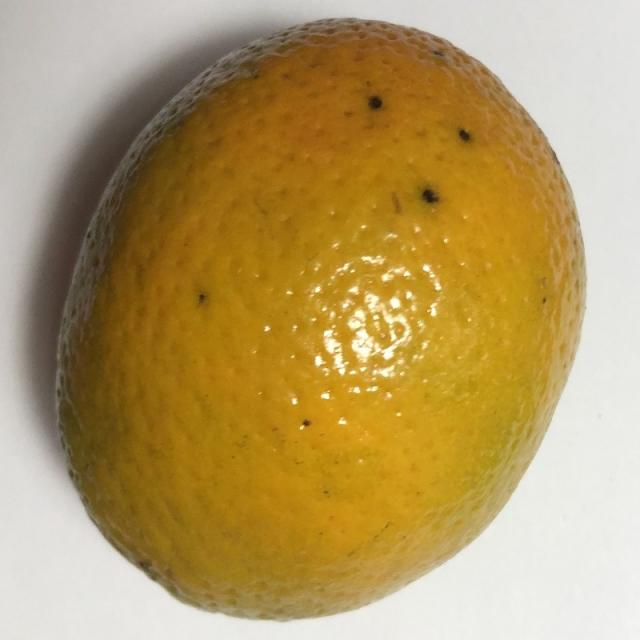blackspot: (58, 2, 590, 639)
